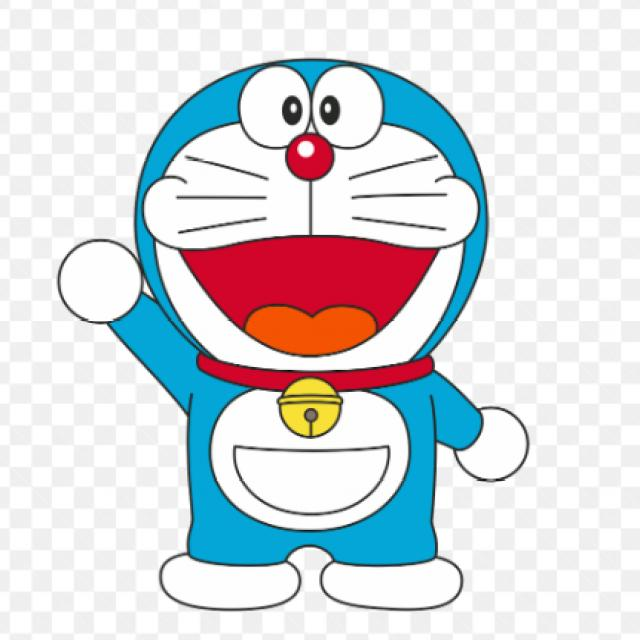Ameng: (59, 35, 554, 398)
